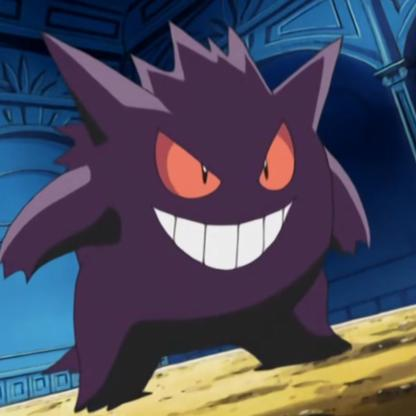Gengar: (1, 4, 380, 415)
